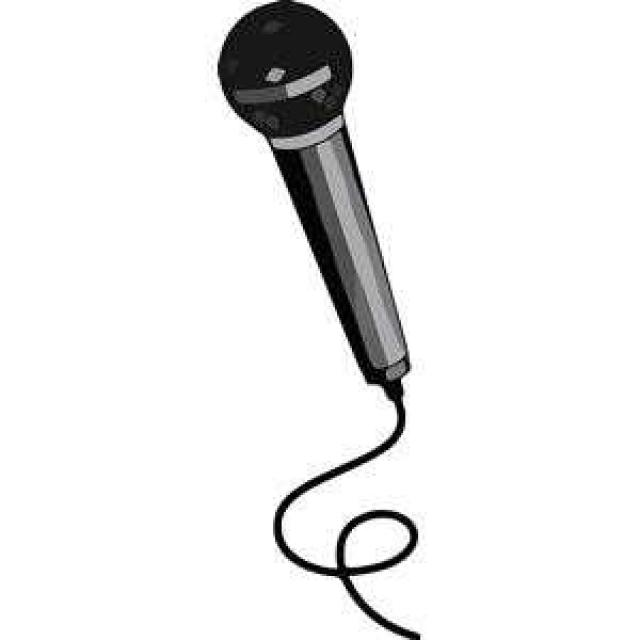microphone: (209, 0, 413, 390)
